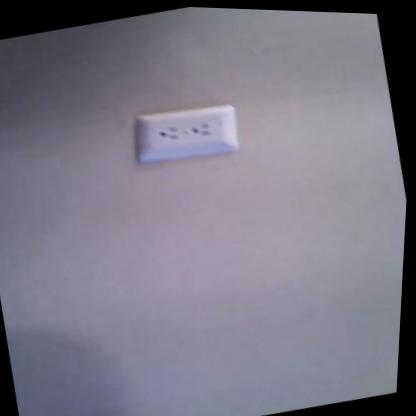OUTLET: (129, 97, 242, 166)
